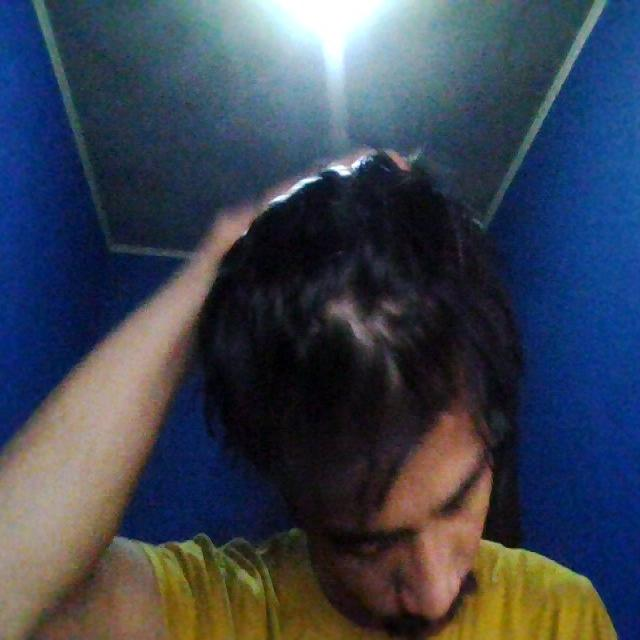Melihat Kebawah: (160, 156, 550, 640)
